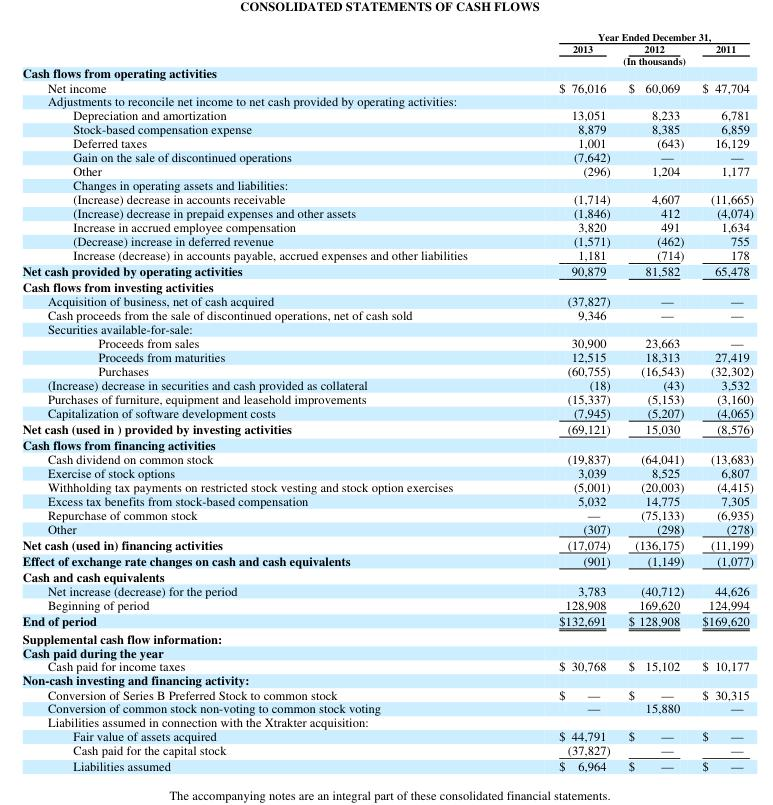table: (21, 29, 753, 773)
table column: (21, 29, 512, 773), (512, 29, 618, 773), (618, 29, 692, 773), (692, 29, 753, 773)
table column header: (21, 29, 753, 65)
table projected row header: (21, 629, 753, 645), (21, 65, 753, 80), (21, 278, 753, 293), (21, 436, 753, 451), (21, 568, 753, 583), (21, 93, 753, 107), (21, 177, 753, 191), (21, 321, 753, 335), (21, 645, 753, 659), (21, 672, 753, 686), (21, 714, 753, 728)
table row: (21, 611, 753, 629), (21, 535, 753, 552), (21, 262, 753, 278), (21, 420, 753, 436), (21, 552, 753, 568), (21, 629, 753, 645), (21, 757, 753, 773), (21, 65, 753, 80), (21, 247, 753, 262), (21, 278, 753, 293), (21, 405, 753, 420), (21, 436, 753, 451), (21, 520, 753, 535), (21, 568, 753, 583), (21, 596, 753, 611), (21, 742, 753, 757), (21, 93, 753, 107), (21, 107, 753, 121), (21, 121, 753, 135), (21, 135, 753, 149), (21, 149, 753, 163), (21, 163, 753, 177), (21, 177, 753, 191), (21, 191, 753, 205), (21, 205, 753, 219), (21, 219, 753, 233), (21, 233, 753, 247), (21, 293, 753, 307), (21, 307, 753, 321), (21, 321, 753, 335), (21, 335, 753, 349), (21, 349, 753, 363), (21, 363, 753, 377), (21, 377, 753, 391), (21, 391, 753, 405), (21, 451, 753, 465), (21, 478, 753, 492), (21, 492, 753, 506), (21, 506, 753, 520), (21, 645, 753, 659), (21, 672, 753, 686), (21, 686, 753, 700), (21, 700, 753, 714), (21, 714, 753, 728), (21, 728, 753, 742), (21, 29, 753, 42), (21, 80, 753, 93), (21, 465, 753, 478), (21, 583, 753, 596), (21, 659, 753, 672), (21, 42, 753, 54), (21, 54, 753, 65)
table spanning cell: (512, 29, 753, 42), (512, 54, 753, 65)
